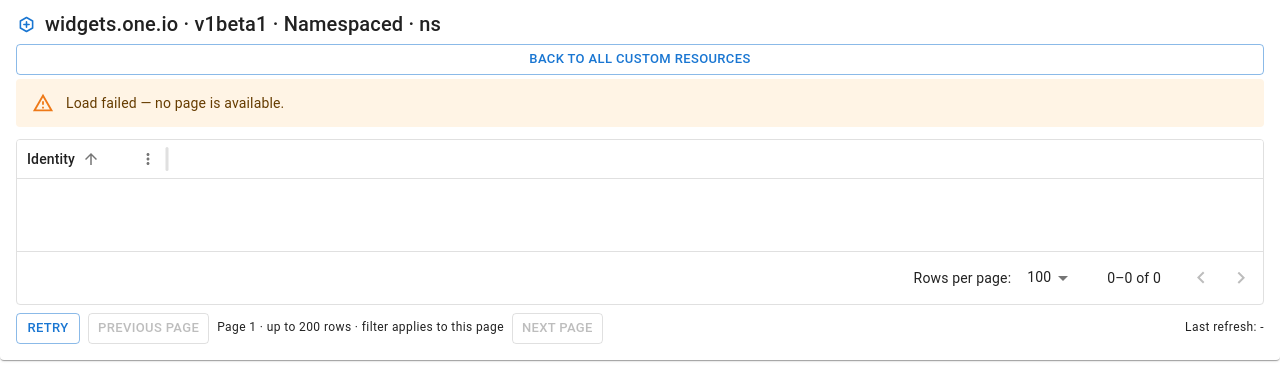
Test case: mounted exact-kind navigation › rejects an exact page with a different response identity and allows retry
Expected: the text "verified" is not shown
Expected: the button "Next page" is disabled, [512,313,603,344]
Click the button "Retry".
click(48, 328)  # box [16,313,80,344]
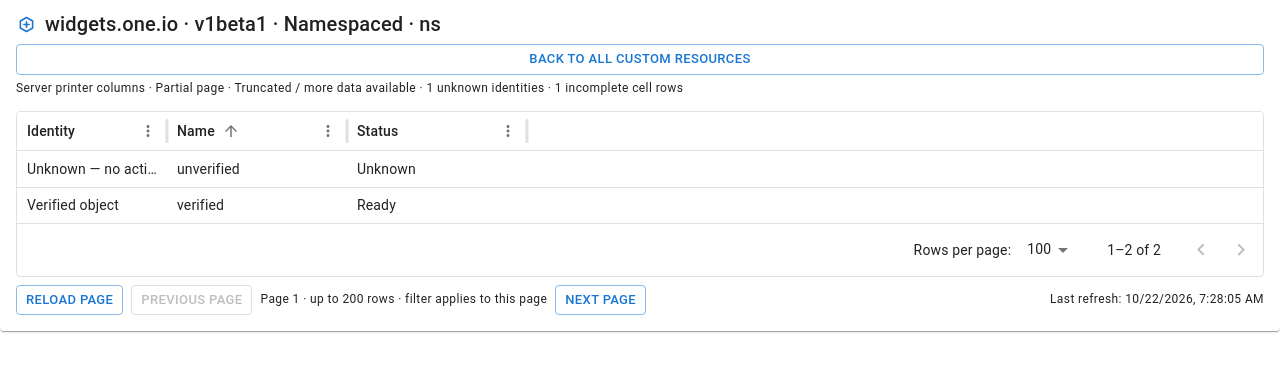
Result: the text "verified" is shown at [167,187,347,223]
